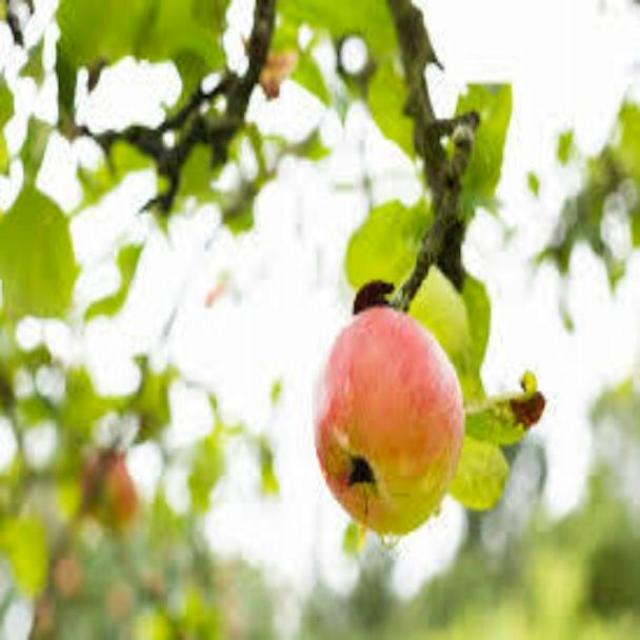HEALTHY: (301, 292, 483, 542)
